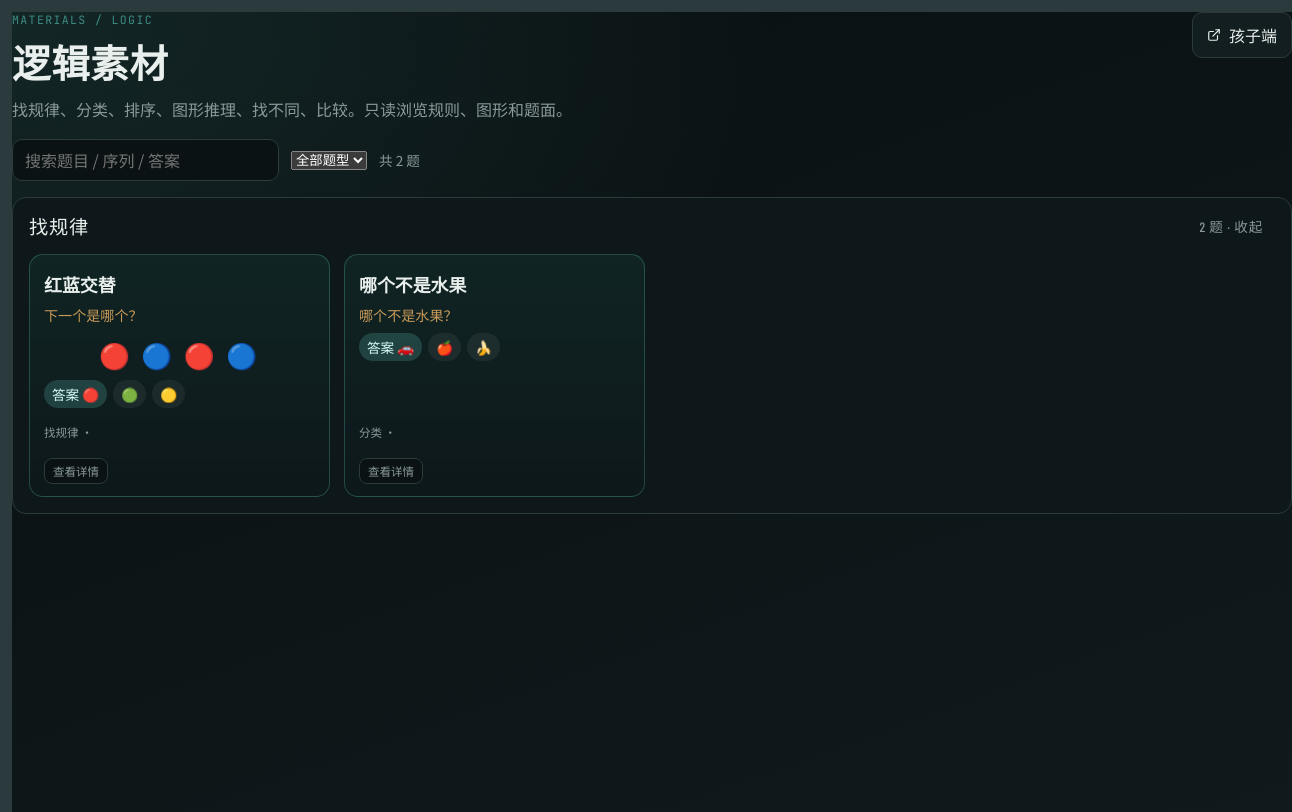
Test: LogicPage › filters items by title or prompt
This screenshot has width=1292, height=812.
Expected: the heading "红蓝交替" is shown, [44,271,116,297]
Expected: the heading "哪个不是水果" is shown, [359,271,466,297]
In the field with placeholder "搜索题目 / 序列 / 答案": (146, 160) [12,139,279,181], type "水果"
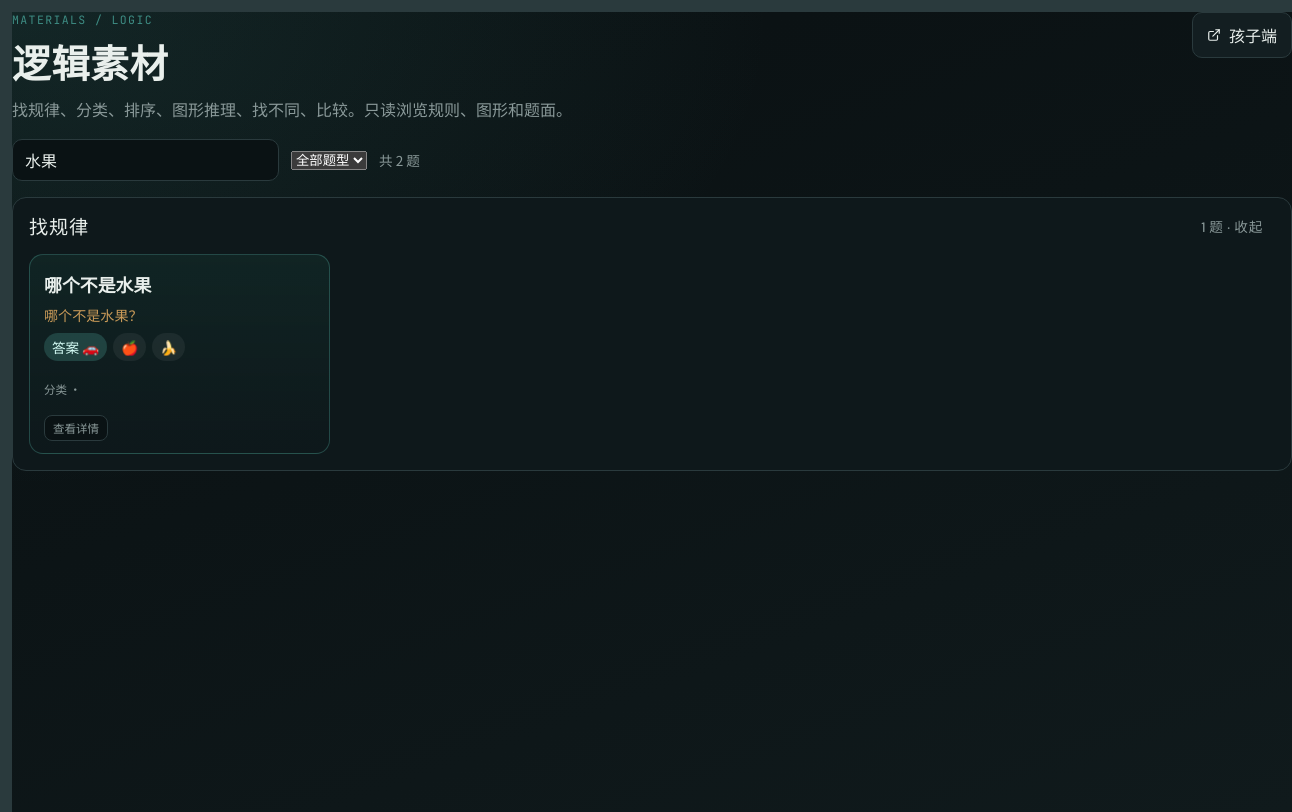
Expected: the heading "哪个不是水果" is shown, [44,271,151,297]
Expected: the heading "红蓝交替" is gone
